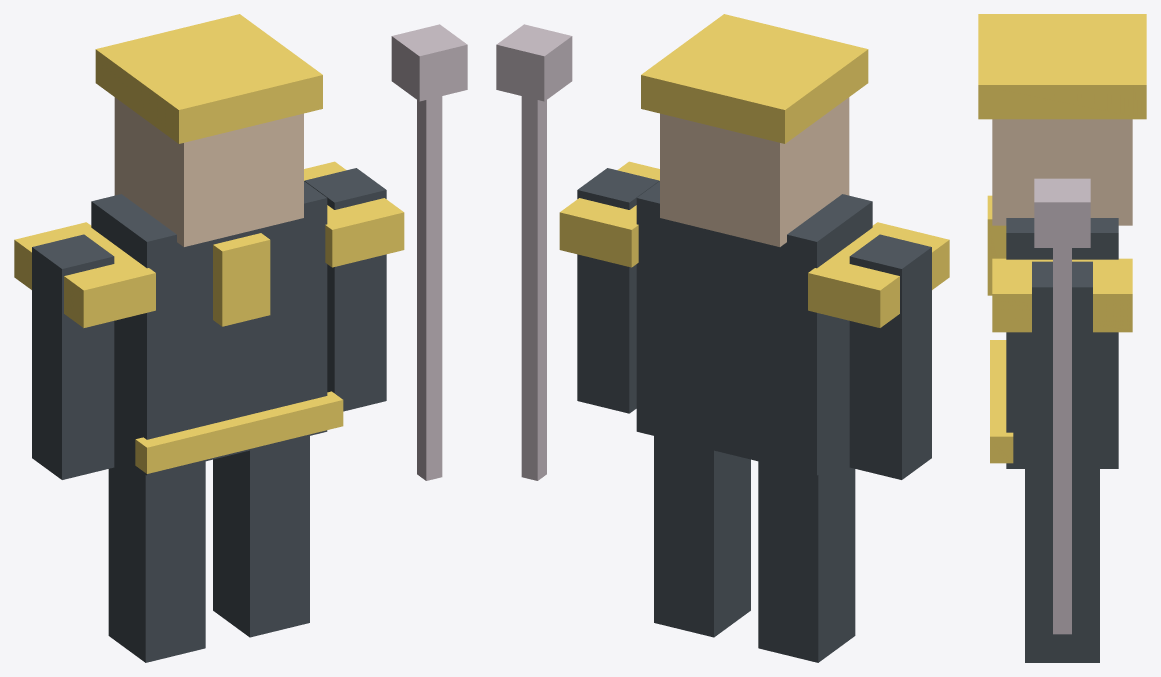
File: 12_noor_skyharrow_cartographer_under_pressure.glb
The picture shows the model from 3 angles, left to right: view 1: azimuth 30°, elevation 25°; view 2: azimuth 150°, elevation 25°; view 3: azimuth 270°, elevation 25°; orthographic projection.
Parts seen in each view (by area): view 1: Noor Skyharrow, Cartographer under Pressure; view 2: Noor Skyharrow, Cartographer under Pressure; view 3: Noor Skyharrow, Cartographer under Pressure.
Part boxes in pixels (x1,y1,x2,y2): Noor Skyharrow, Cartographer under Pressure: (14, 14, 467, 662); Noor Skyharrow, Cartographer under Pressure: (496, 14, 949, 662); Noor Skyharrow, Cartographer under Pressure: (978, 14, 1146, 662).
Size of the model in its own units: 1.1 by 1.46 by 0.3896.
